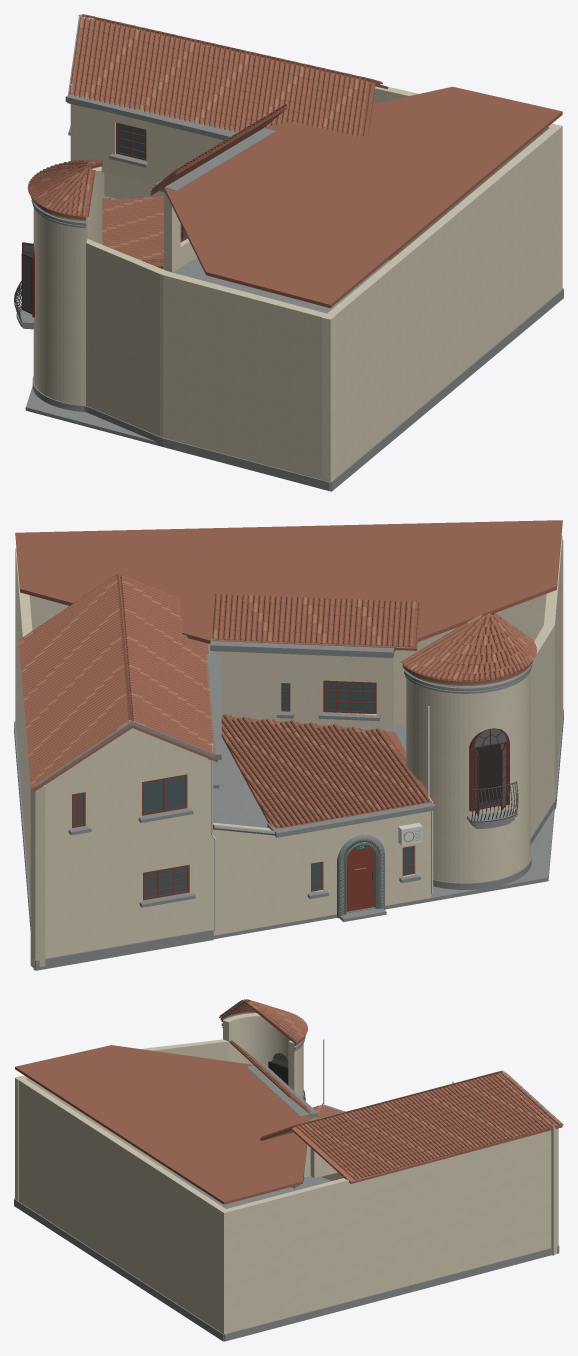
The model's file is full-source.glb.
3 views of the same model, one above another, from view 1: azimuth 30°, elevation 25°; view 2: azimuth 150°, elevation 25°; view 3: azimuth 270°, elevation 25° (orthographic). The views are drawn at different scales.
Visible parts, largest first — view 1: 武康路129号德利那齐宅; view 2: 武康路129号德利那齐宅; view 3: 武康路129号德利那齐宅.
Part boxes in pixels (<box>): 武康路129号德利那齐宅: <box>14,14,563,491</box>; 武康路129号德利那齐宅: <box>14,520,563,970</box>; 武康路129号德利那齐宅: <box>14,999,563,1341</box>.
Size of the model in its own units: 16.38 by 7.04 by 20.15.
Materials: 14 (4 with a texture image).
